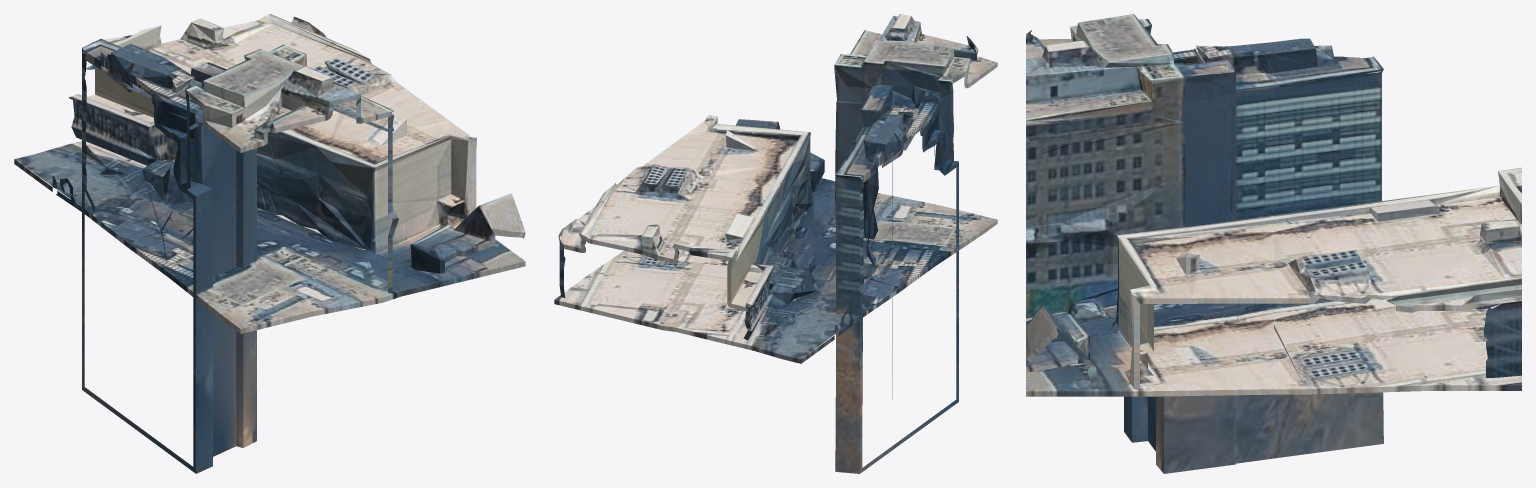
Rendered from chunk_1_-3.glb.
3 renders of one model, left to right at view 1: azimuth 30°, elevation 25°; view 2: azimuth 150°, elevation 25°; view 3: azimuth 270°, elevation 25°, orthographic. The views are drawn at different scales.
Parts seen in each view (by area): view 1: hero-chunk; view 2: hero-chunk; view 3: hero-chunk.
Part boxes in pixels (left/top/right/bottom): hero-chunk: left=14, top=14, right=525, bottom=473; hero-chunk: left=554, top=14, right=997, bottom=473; hero-chunk: left=1026, top=14, right=1521, bottom=473.
Size of the model in its own units: 56.35 by 73.83 by 76.32.
Materials: 2 (2 with a texture image).
